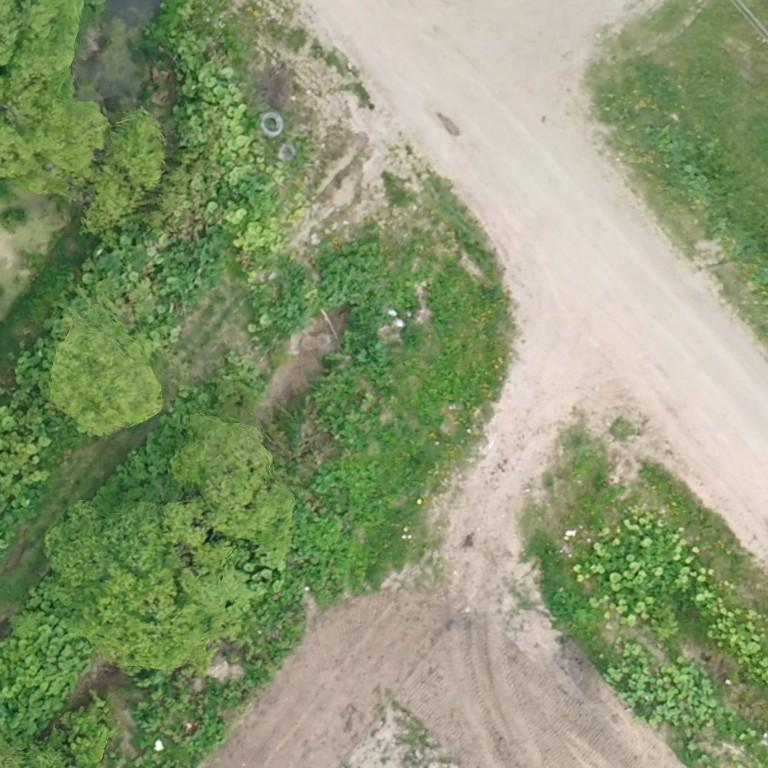hogweed: (319, 242, 385, 332), (273, 265, 312, 332), (342, 332, 391, 384)
